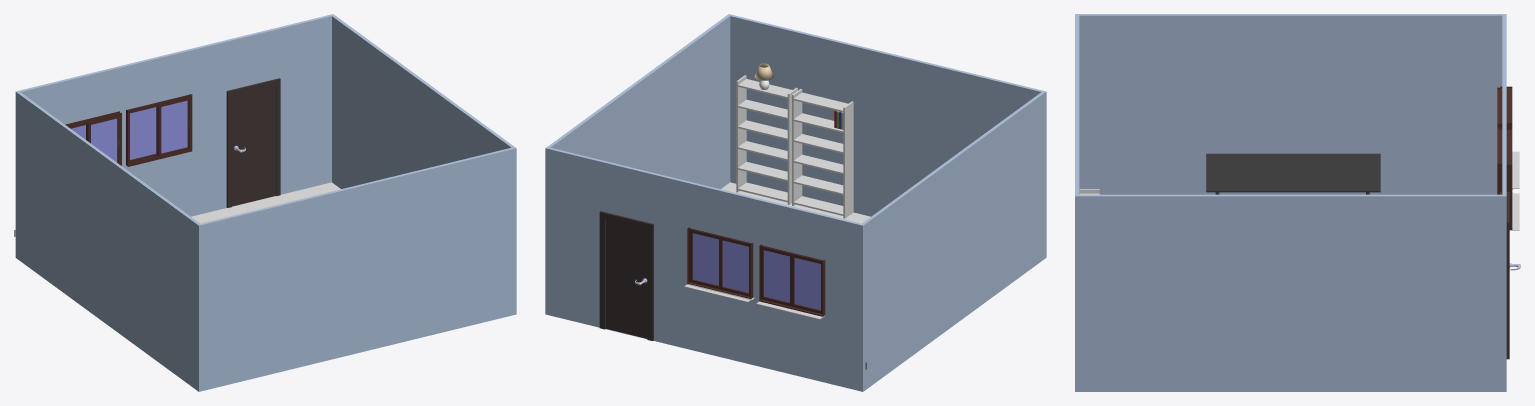
Rendered from ruangan vr.fbx.
3 views of the same model, side by side, from view 1: azimuth 30°, elevation 25°; view 2: azimuth 150°, elevation 25°; view 3: azimuth 270°, elevation 25° (orthographic). The views are drawn at different scales.
Visible parts, largest first — view 1: Room, Door, Window.R.001, DoorFrame, Window.L.005, Floor, Window.R, WindowFrame.003; view 2: Room, Shelves1.001, Door, Shelves1, DoorFrame, Window.L.001, Window.L, Window.L.002, Window.L.003, WindowFrame.001, WindowFrame, Floor; view 3: Room, table, WindowFrame, DoorFrame, WindowFrame.001.
Part boxes in pixels (<box>): Room: <box>15,14,516,391</box>; Door: <box>232,84,275,206</box>; Window.R.001: <box>157,97,189,157</box>; DoorFrame: <box>226,78,280,207</box>; Window.L.005: <box>129,105,157,162</box>; Floor: <box>191,182,340,223</box>; Window.R: <box>87,115,119,164</box>; WindowFrame.003: <box>126,94,192,166</box>; Room: <box>545,14,1046,391</box>; Shelves1.001: <box>792,89,853,218</box>; Door: <box>606,219,647,338</box>; Shelves1: <box>736,75,797,204</box>; DoorFrame: <box>599,211,653,340</box>; Window.L.001: <box>791,255,822,314</box>; Window.L: <box>719,238,750,296</box>; Window.L.002: <box>689,230,721,289</box>; Window.L.003: <box>761,248,792,306</box>; WindowFrame.001: <box>759,244,825,316</box>; WindowFrame: <box>687,227,753,298</box>; Floor: <box>721,182,870,223</box>; Room: <box>1075,14,1506,391</box>; table: <box>1206,153,1380,194</box>; WindowFrame: <box>1500,128,1512,229</box>; DoorFrame: <box>1500,192,1509,359</box>; WindowFrame.001: <box>1500,86,1512,128</box>.
Bounding box in the file's own units: 604 × 300 × 620.
